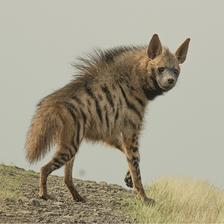hyena: (25, 31, 195, 207)
